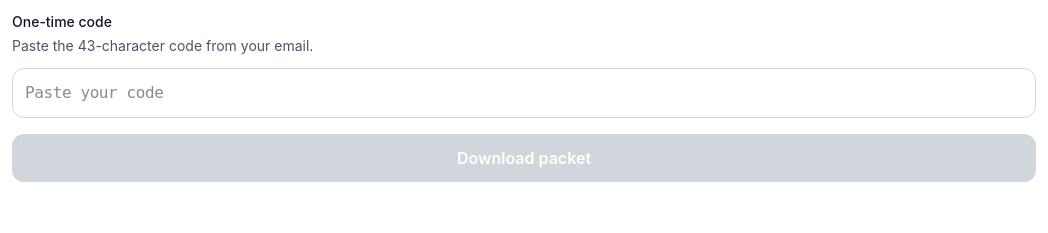
refusals are coarse and the input is still cleared › shows a message for SOMETHING_NEW
Type "Zm9vYmFyYmF6cXV1eGNvcmdlZ3JhdWx0Z2FycGx5Z2g" into the field labelled "One-time code".
click(524, 93); type("Zm9vYmFyYmF6cXV1eGNvcmdlZ3JhdWx0Z2FycGx5Z2g")  # box left=12, top=68, right=1036, bottom=118
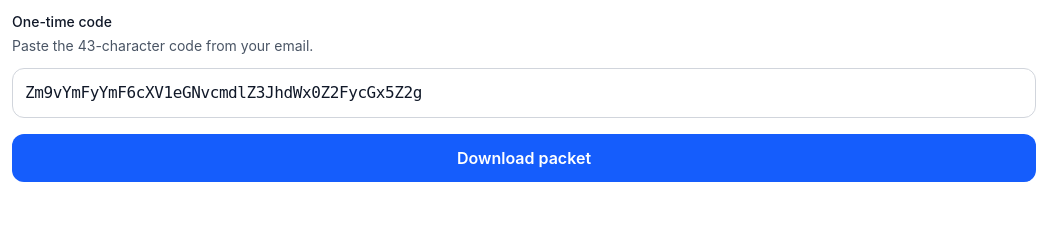
Click the button "Download packet".
click(524, 158)  # box left=12, top=134, right=1036, bottom=182
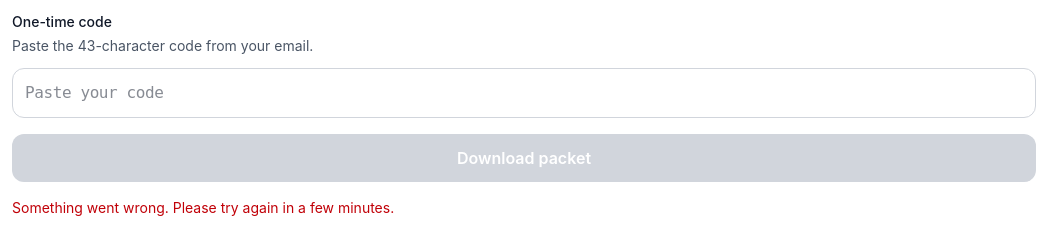
Expected: the text "Something went wrong. Please try again in a few minutes." is shown, left=12, top=199, right=394, bottom=216
Expected: the field labelled "One-time code" is empty, left=12, top=68, right=1036, bottom=118
